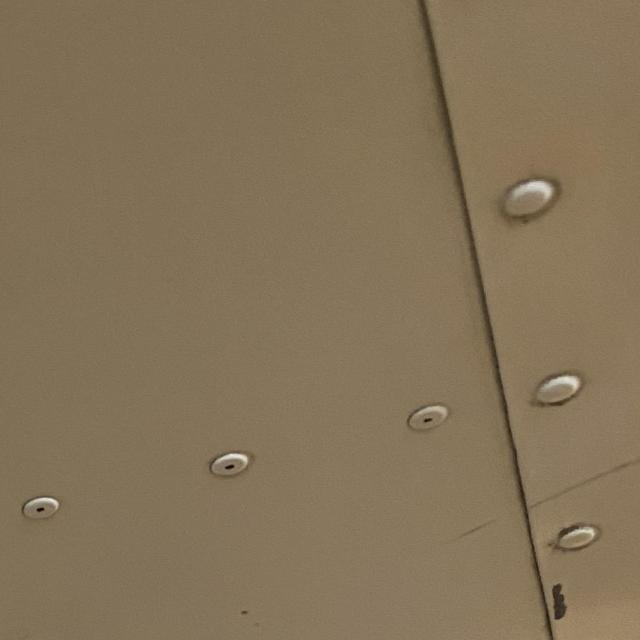Paint-off: (551, 582, 571, 619)
Scratch: (529, 456, 637, 515), (440, 510, 513, 550)
